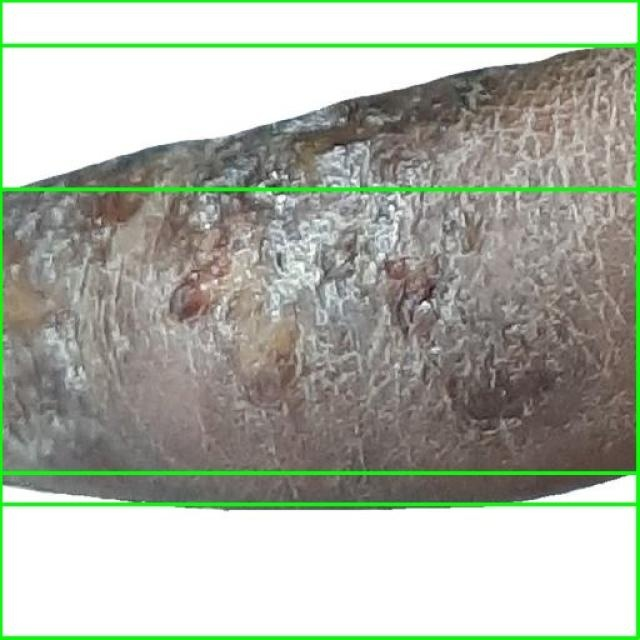Eczema: (0, 45, 639, 505), (0, 0, 639, 189), (0, 474, 639, 639)
